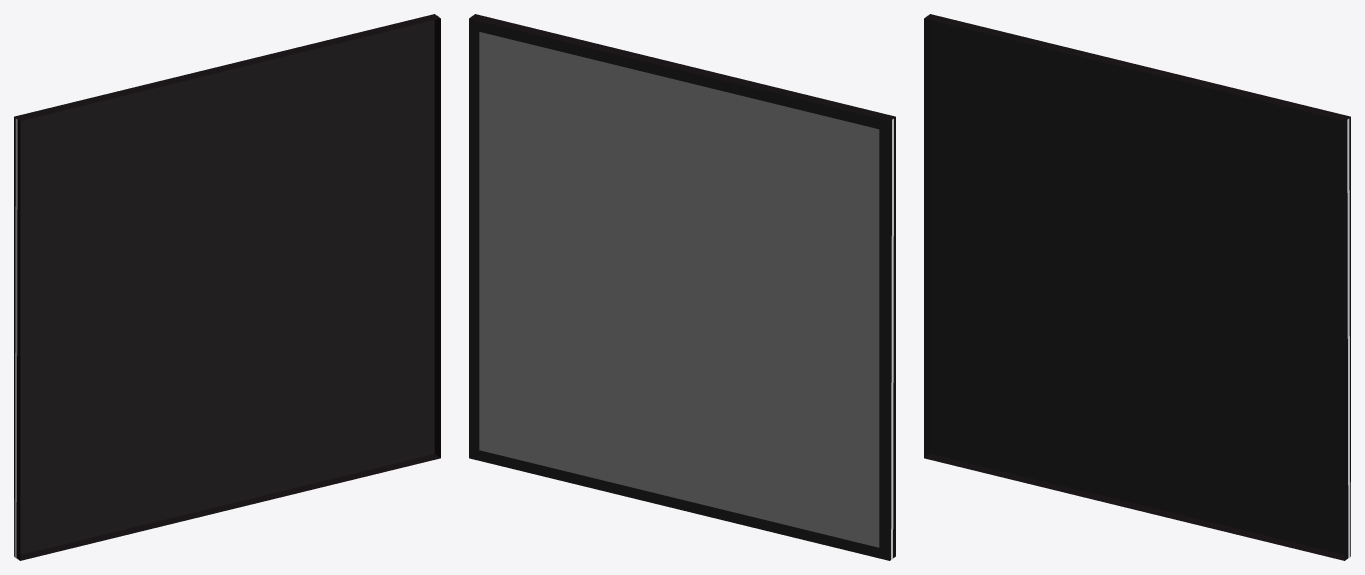
The model's file is M_zhuangshihua01.FBX.
3 views of the same model, side by side, from view 1: azimuth 30°, elevation 25°; view 2: azimuth 150°, elevation 25°; view 3: azimuth 330°, elevation 25° (orthographic).
Visible parts, largest first — view 1: M_zhuangshihua01_01, M_zhuangshihua01_02; view 2: M_zhuangshihua_change, M_zhuangshihua01_01, M_zhuangshihua01_02; view 3: M_zhuangshihua01_01, M_zhuangshihua01_02.
Part boxes in pixels (bbox=[...]): M_zhuangshihua01_01: bbox=[14, 14, 440, 560]; M_zhuangshihua01_02: bbox=[14, 15, 438, 558]; M_zhuangshihua_change: bbox=[479, 32, 879, 547]; M_zhuangshihua01_01: bbox=[469, 14, 895, 560]; M_zhuangshihua01_02: bbox=[471, 16, 893, 559]; M_zhuangshihua01_01: bbox=[924, 14, 1350, 560]; M_zhuangshihua01_02: bbox=[926, 15, 1350, 558].
Size of the model in its own units: 3.32 by 3.31 by 0.0851.
